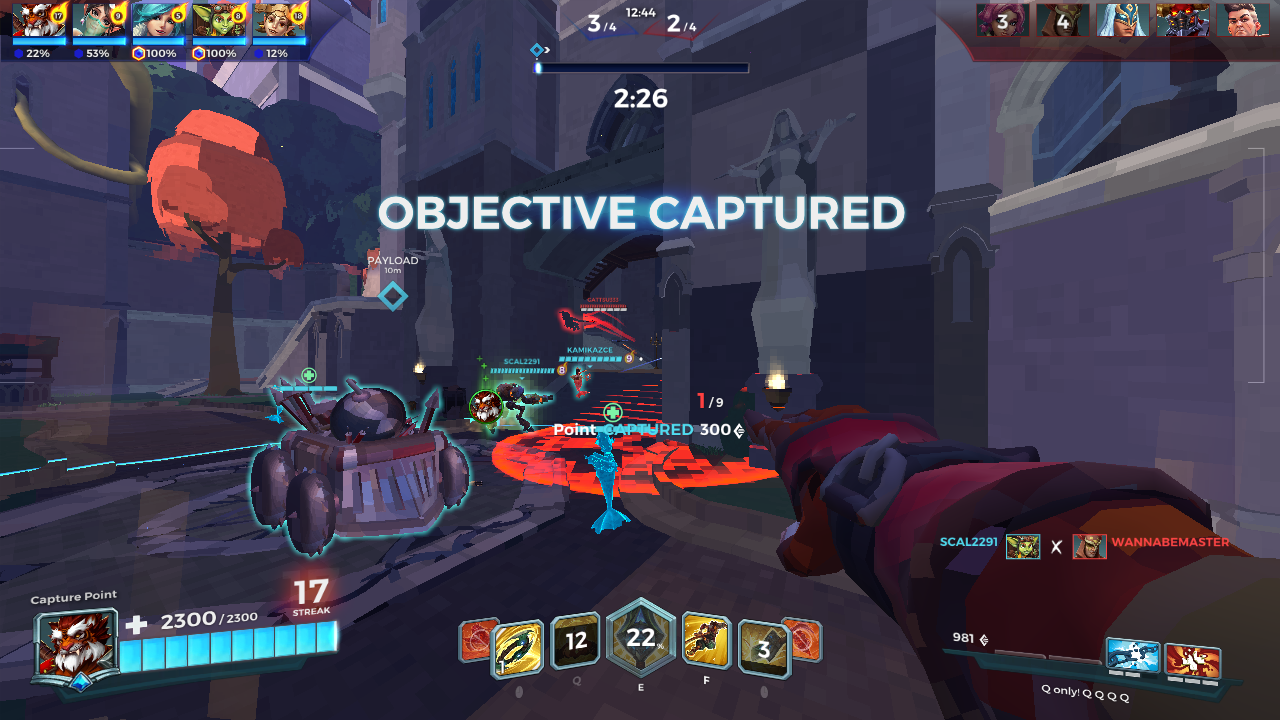model: (556, 311, 586, 332)
